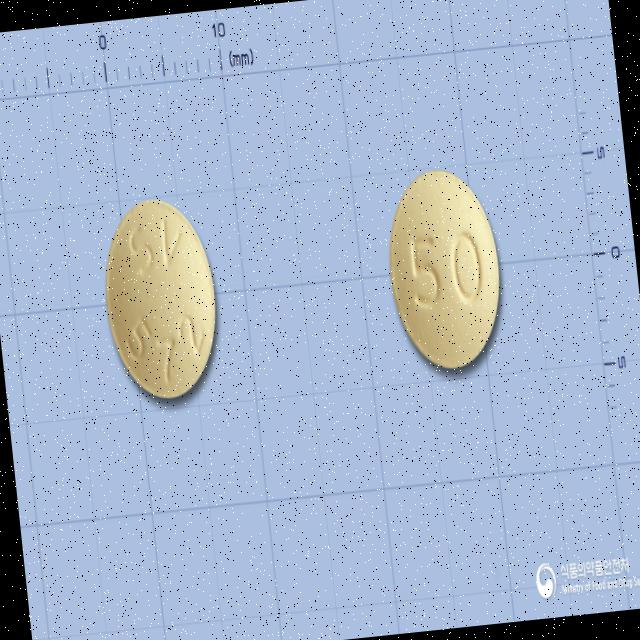Tivicay Tab: (94, 189, 226, 405), (380, 161, 510, 378)
